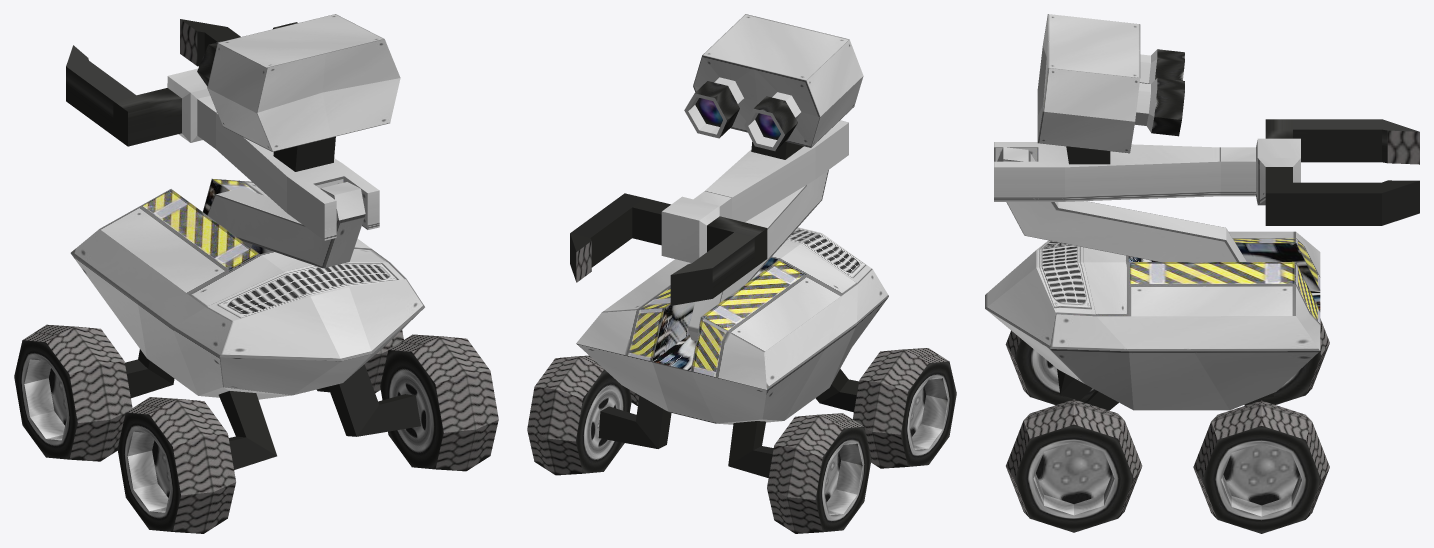
File: game_robo_03.glb
The picture shows the model from 3 angles, left to right: view 1: azimuth 30°, elevation 25°; view 2: azimuth 150°, elevation 25°; view 3: azimuth 270°, elevation 25°; orthographic projection. The views are drawn at different scales.
Visible parts, largest first — view 1: CorpoRobo, RoboGarra, roda.003, roda.002, roda1, BracoRobo, roda; view 2: CorpoRobo, RoboGarra, roda.002, roda.003, roda, BracoRobo; view 3: CorpoRobo, RoboGarra, roda, roda1, BracoRobo, roda.003, roda.002.
Boxes of the visible parts, box(x1,y1,x2,y2) form: CorpoRobo: box(70, 178, 424, 469); RoboGarra: box(66, 14, 400, 240); roda.003: box(117, 397, 235, 533); roda.002: box(14, 324, 132, 461); roda1: box(380, 334, 498, 471); BracoRobo: box(207, 182, 365, 268); roda: box(316, 330, 403, 393); CorpoRobo: box(576, 227, 888, 477); RoboGarra: box(570, 14, 863, 305); roda.002: box(767, 413, 871, 533); roda.003: box(853, 348, 956, 468); roda: box(527, 355, 631, 475); BracoRobo: box(688, 170, 828, 340); CorpoRobo: box(985, 231, 1320, 410); RoboGarra: box(994, 14, 1419, 225); roda: box(1193, 400, 1329, 533); roda1: box(1006, 399, 1142, 532); BracoRobo: box(997, 147, 1246, 261); roda.003: box(1005, 330, 1095, 405); roda.002: box(1264, 318, 1329, 404).
Bounding box in the file's own units: 3.82 × 5.1 × 4.69.
Materials: 1 (1 with a texture image).
